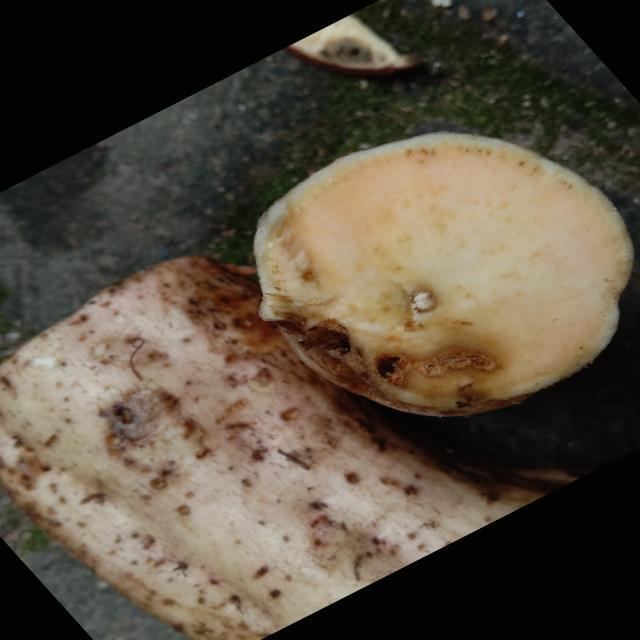Sick Sweet Potato_Tuber Rot: (255, 132, 633, 416)
